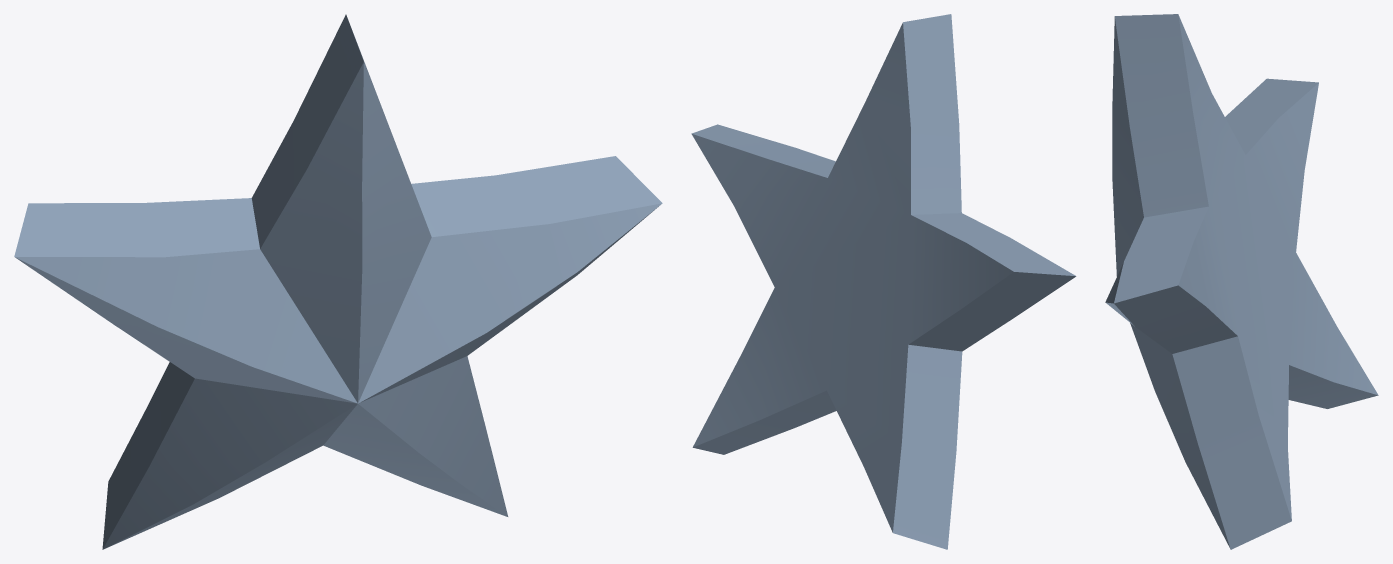
Rendered from BL2_Frame_Star.001 3.glb.
The picture shows the model from 3 angles, left to right: view 1: azimuth 30°, elevation 25°; view 2: azimuth 150°, elevation 25°; view 3: azimuth 270°, elevation 25°; orthographic projection. The views are drawn at different scales.
Visible parts, largest first — view 1: BL2_Frame_Star.001; view 2: BL2_Frame_Star.001; view 3: BL2_Frame_Star.001.
Part boxes in pixels (bbox=[...]): BL2_Frame_Star.001: bbox=[14, 14, 662, 549]; BL2_Frame_Star.001: bbox=[691, 14, 1076, 549]; BL2_Frame_Star.001: bbox=[1105, 14, 1378, 549].
Size of the model in its own units: 0.37 by 0.3676 by 0.1981.
